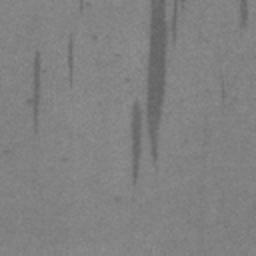Red iron sheet: (129, 0, 179, 188), (28, 51, 41, 131), (68, 37, 73, 88), (241, 0, 248, 29)
